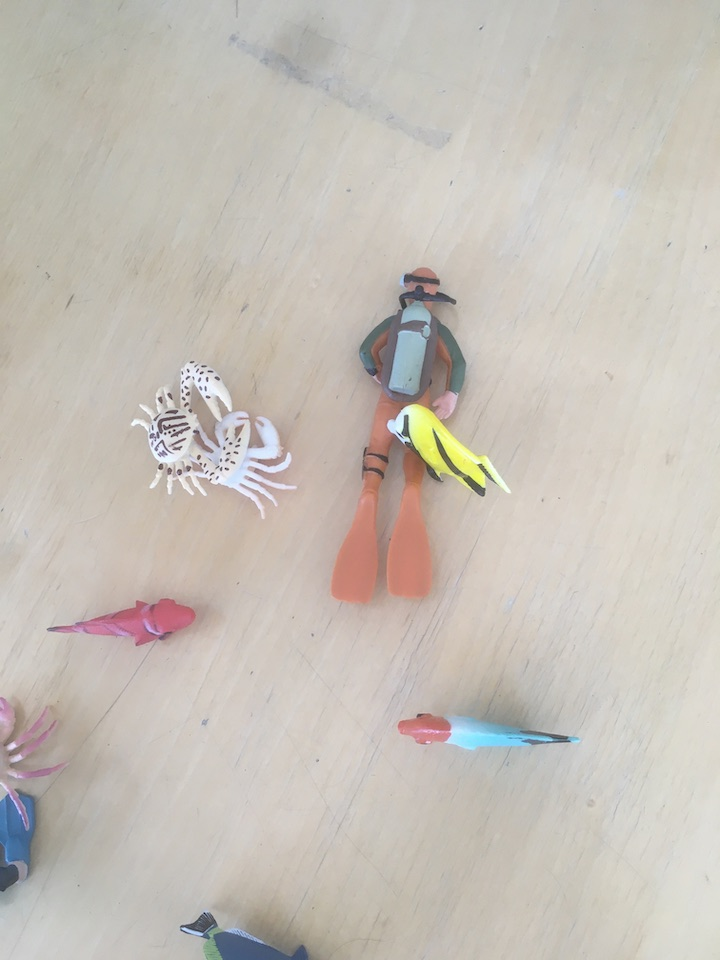crab: (125, 355, 255, 498), (170, 407, 303, 519), (1, 686, 66, 838)
danger: (380, 396, 517, 505)
diver: (324, 256, 472, 606)
fish: (391, 701, 589, 758), (42, 593, 205, 651), (177, 908, 318, 960)
